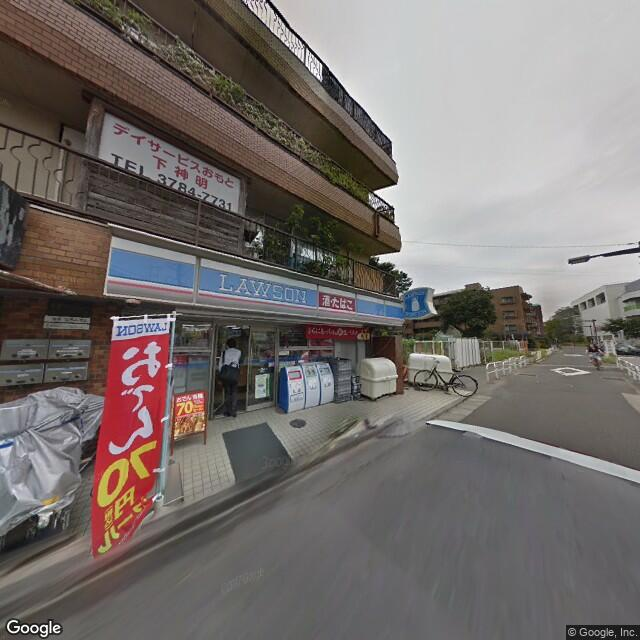lawson: (106, 236, 405, 328), (397, 282, 432, 320)
